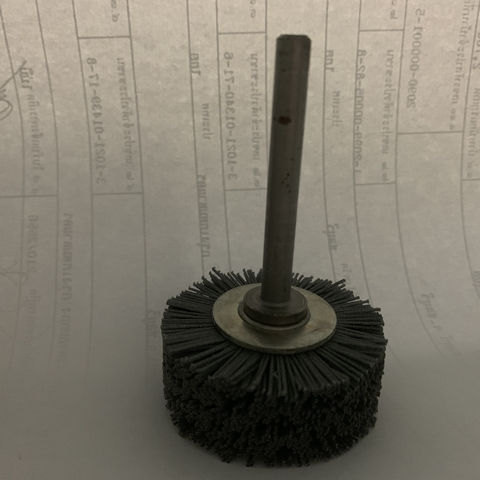Wheel Brush: (136, 21, 416, 456), (151, 24, 406, 473), (137, 27, 382, 460), (164, 8, 387, 471)
